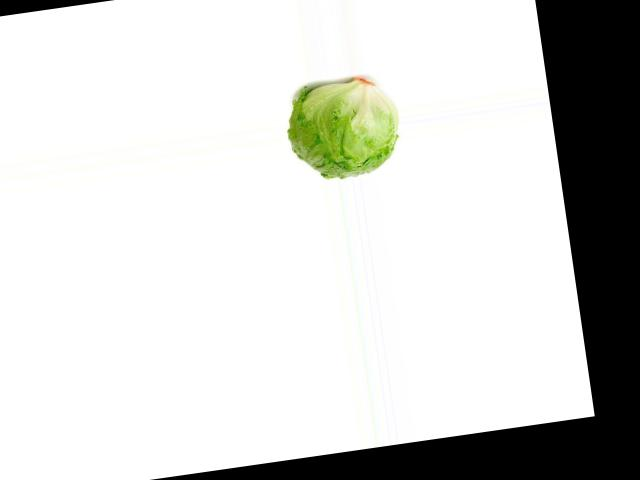lettuce: (282, 76, 399, 185)
